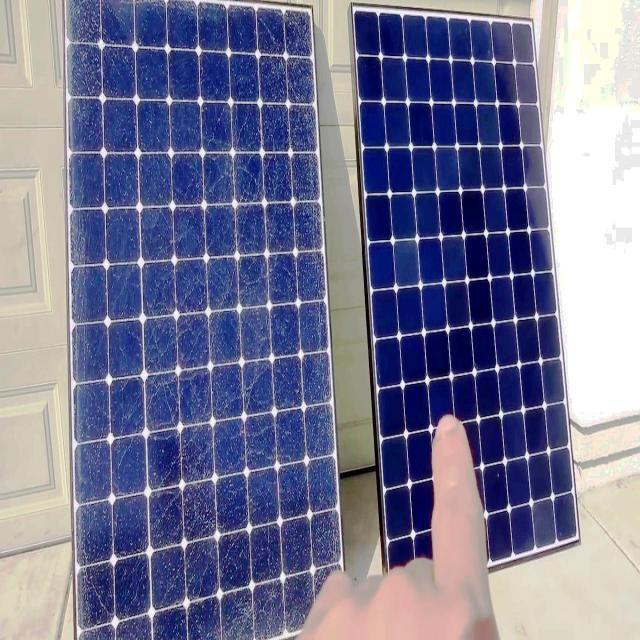faulty: (60, 2, 345, 640)
no faulty: (352, 4, 578, 584)
